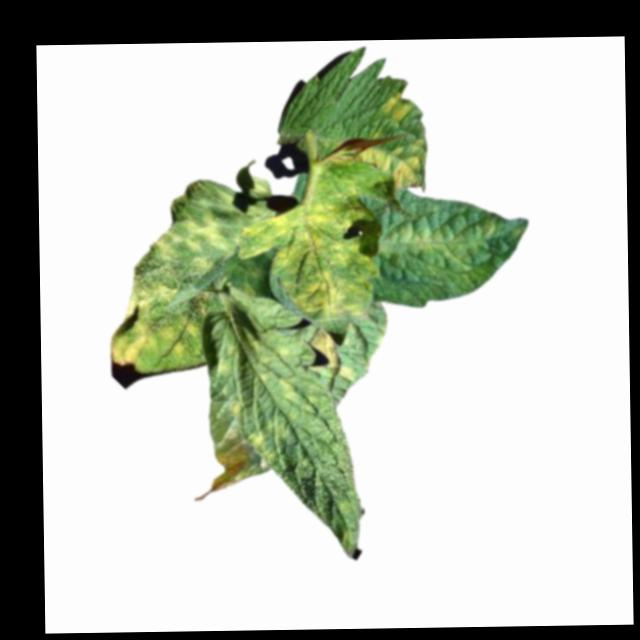Leaf_Mold: (239, 193, 379, 319), (110, 284, 203, 367), (378, 217, 498, 275), (150, 200, 238, 272), (348, 138, 430, 190), (248, 336, 304, 411), (199, 424, 246, 493), (307, 330, 353, 385), (248, 416, 289, 463), (380, 92, 412, 122), (229, 400, 242, 415)
